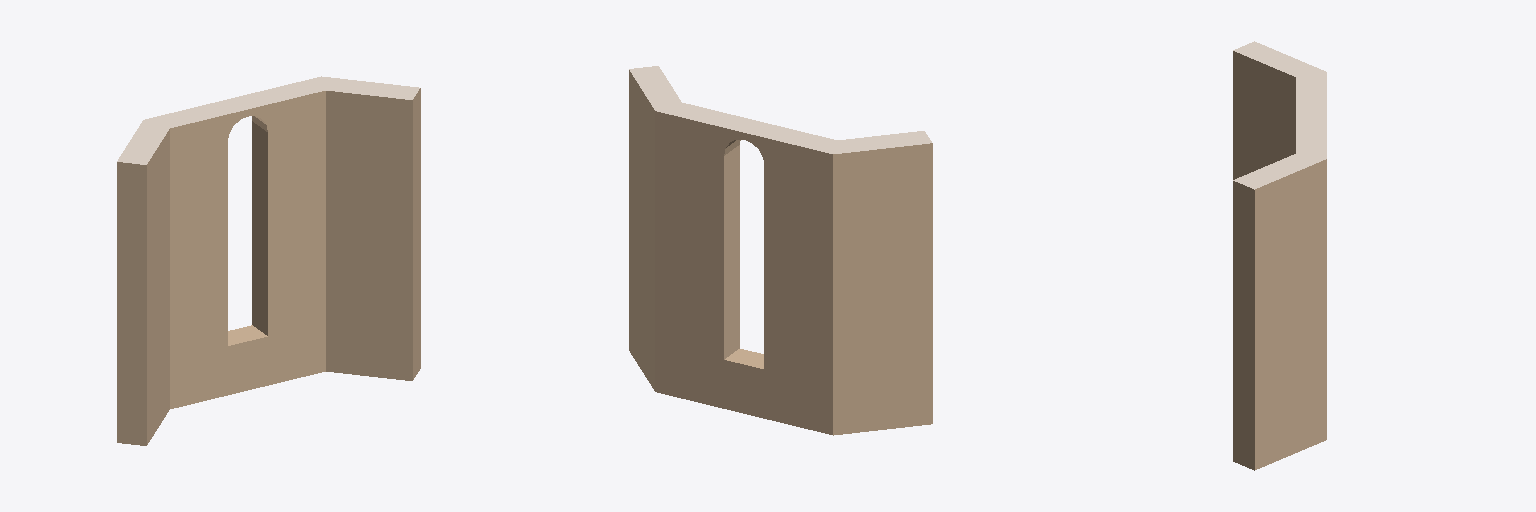
Rendered from Tower_Wall_Tall_Window.obj.
3 renders of one model, left to right at view 1: azimuth 30°, elevation 25°; view 2: azimuth 150°, elevation 25°; view 3: azimuth 270°, elevation 25°, orthographic.
Visible parts, largest first — view 1: object1; view 2: object1; view 3: object1.
Boxes of the visible parts, <box> form: object1: <box>117,76,420,445</box>; object1: <box>629,66,932,435</box>; object1: <box>1233,41,1326,470</box>.
Bounding box in the file's own units: 2.26 × 2 × 0.6101.